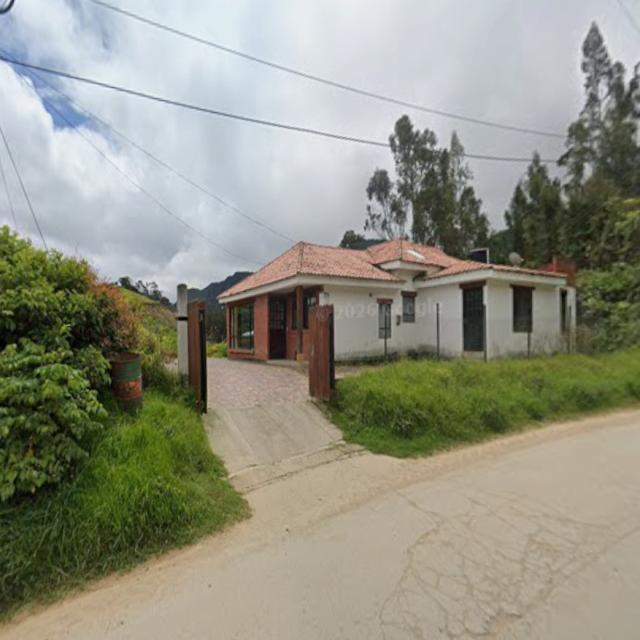Fachada: (217, 238, 577, 361)
